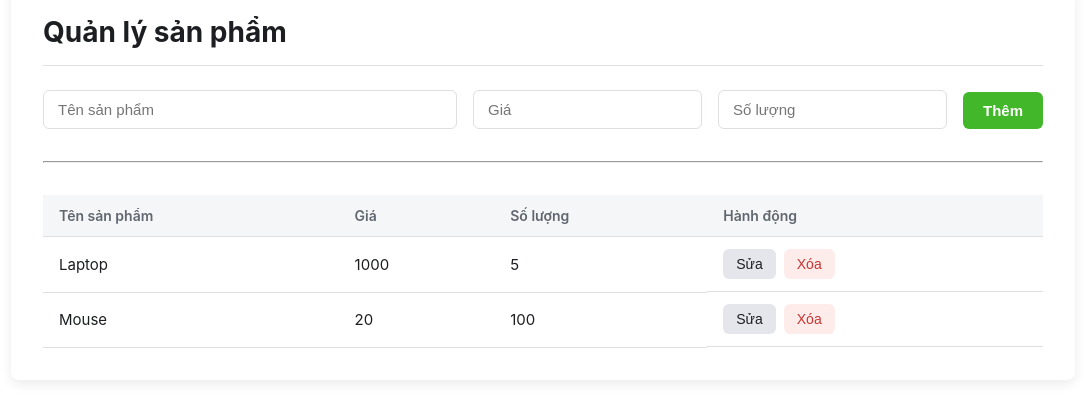
Test: ProductPage - Mock Component Tests › xóa sản phẩm khỏi danh sách
Expected: the text "Laptop" is shown, left=43, top=236, right=339, bottom=292
Click the button with test id "btn-delete-1" at (809, 264), box left=784, top=249, right=835, bottom=279
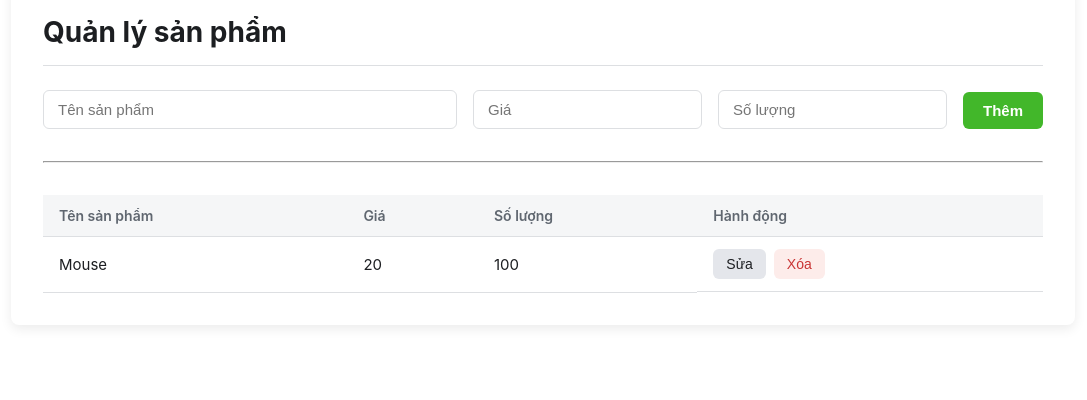
Expected: the row with test id "product-item-1" is gone
